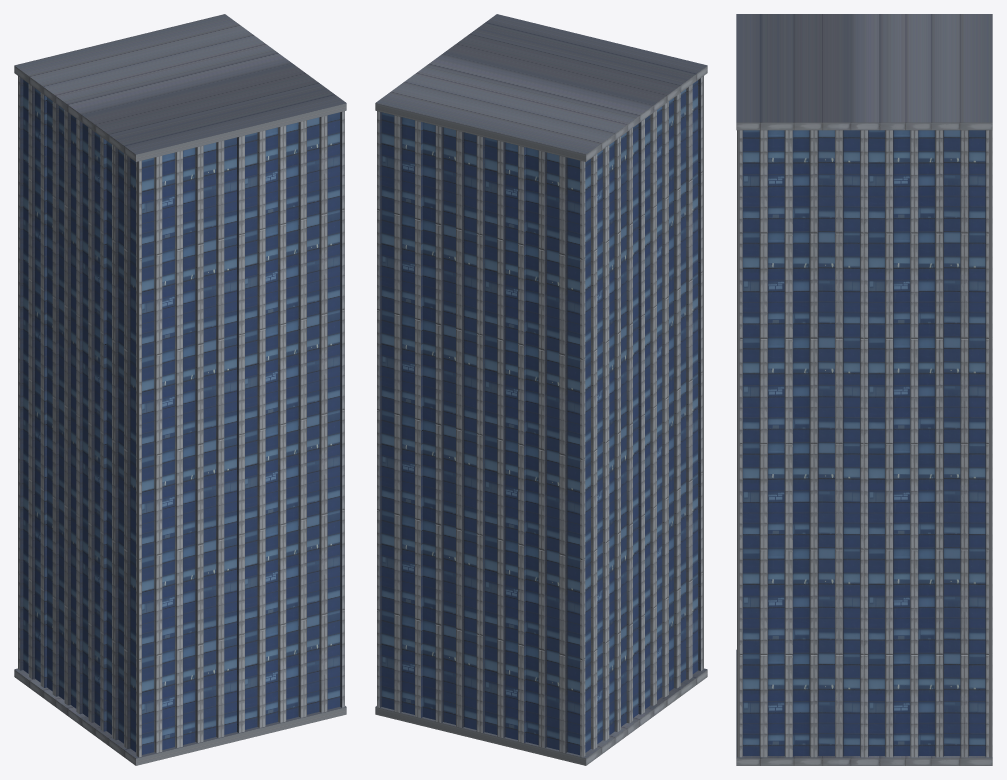
The model's file is glb-17.glb.
3 views of the same model, side by side, from view 1: azimuth 30°, elevation 25°; view 2: azimuth 150°, elevation 25°; view 3: azimuth 270°, elevation 25° (orthographic). The views are drawn at different scales.
Visible parts, largest first — view 1: Cube.001_0; view 2: Cube.001_0; view 3: Cube.001_0.
Part boxes in pixels (x1=…): Cube.001_0: x1=14, y1=14, x2=346, y2=765; Cube.001_0: x1=375, y1=14, x2=707, y2=765; Cube.001_0: x1=736, y1=14, x2=992, y2=765.
Size of the model in its own units: 2.21 by 6.11 by 2.21.
Materials: 2 (2 with a texture image).
